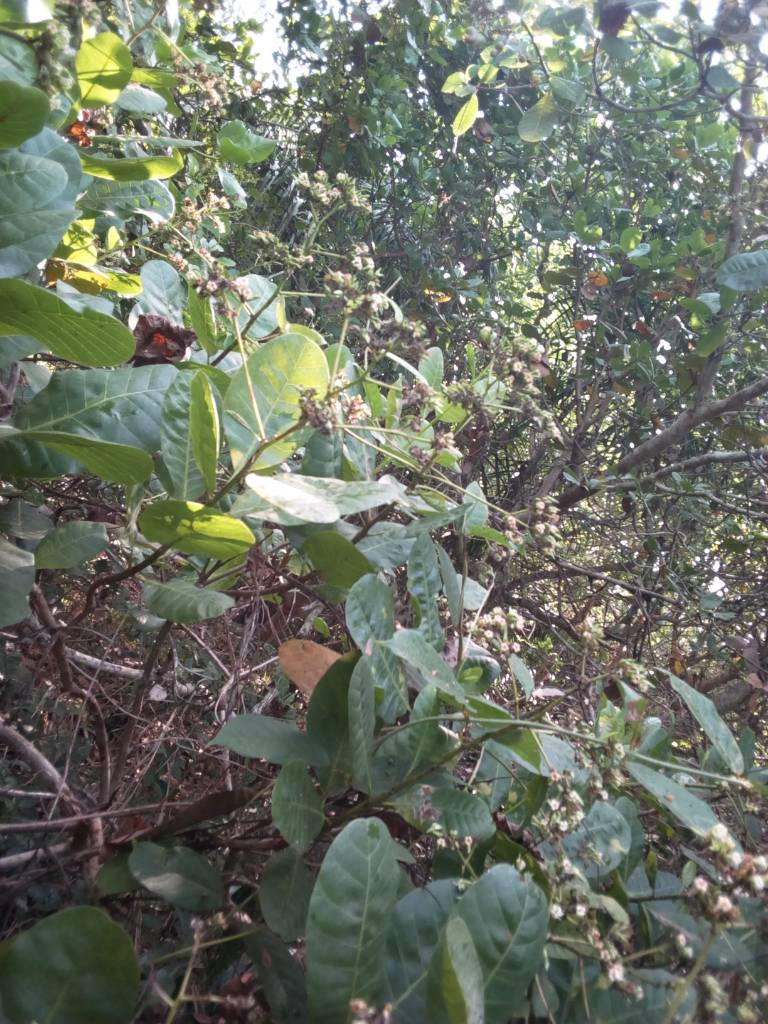Helopeltis anacardii: (46, 369, 196, 446), (407, 524, 457, 639)
